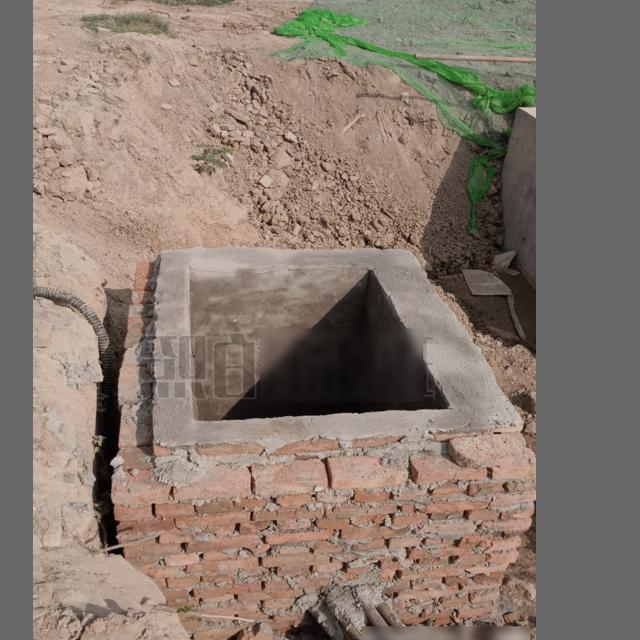lose: (152, 249, 522, 445)
